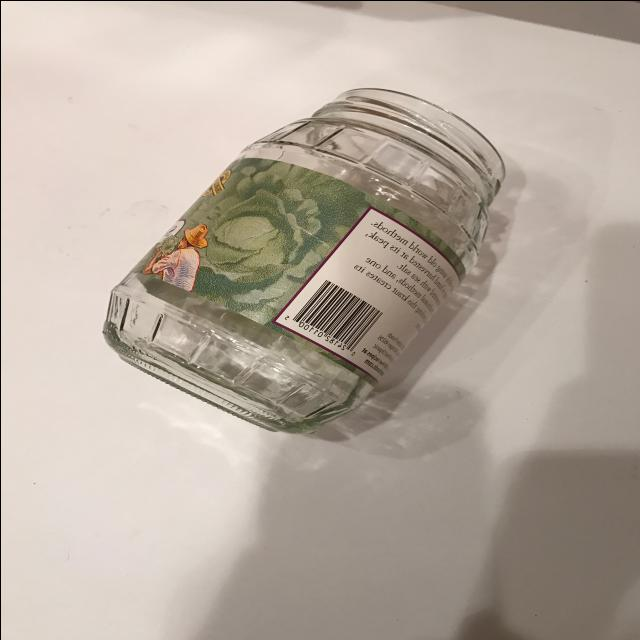glass: (94, 84, 508, 442)
